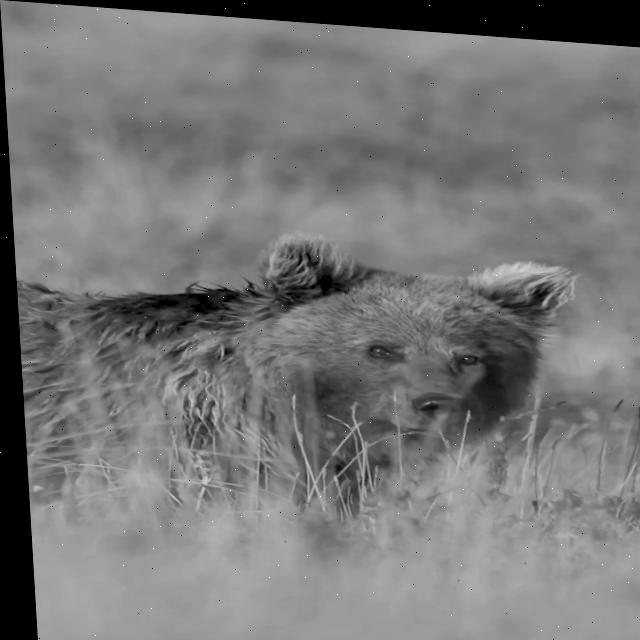Bear: (12, 209, 596, 558)
